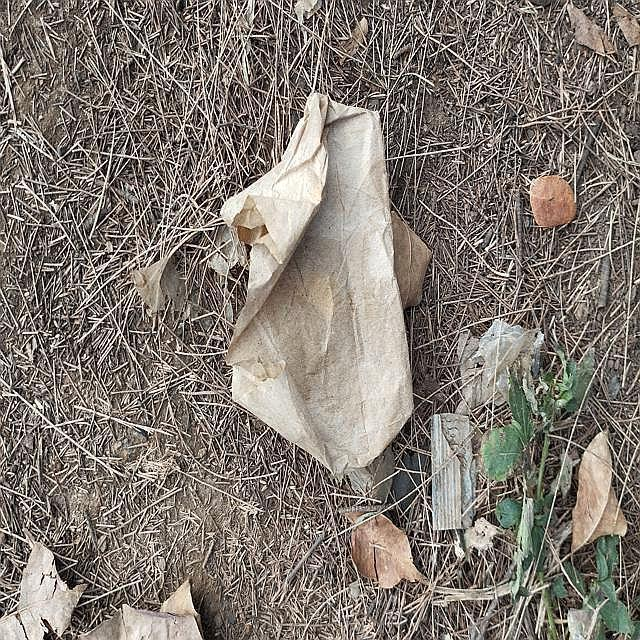Biodegradable: (226, 95, 413, 469)
